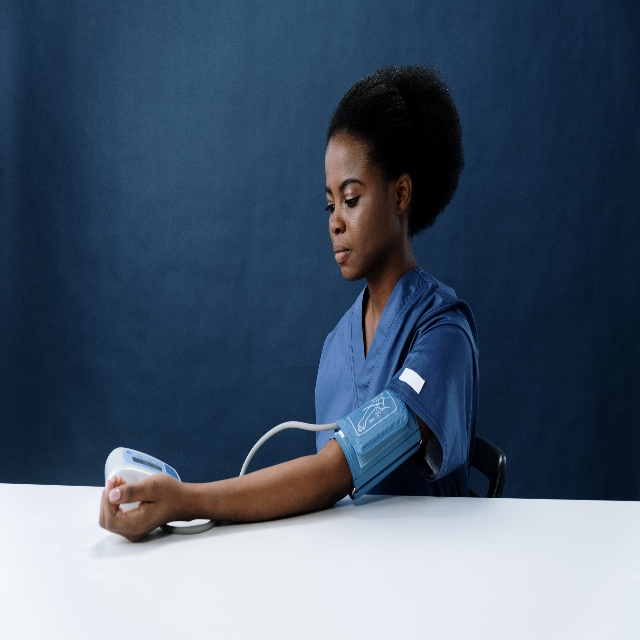Sin_guantes: (98, 458, 184, 543)
